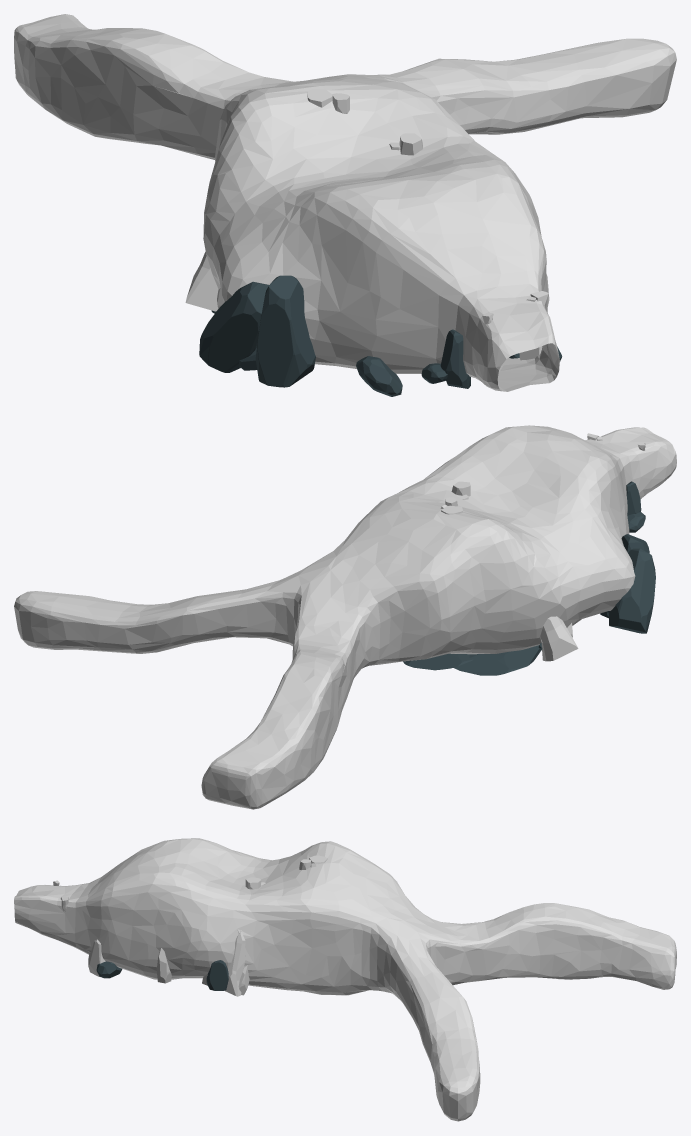
File: CaveTest1.fbx
3 views of the same model, one above another, from view 1: azimuth 30°, elevation 25°; view 2: azimuth 150°, elevation 25°; view 3: azimuth 270°, elevation 25° (orthographic). The views are drawn at different scales.
Parts seen in each view (by area): view 1: Cave, Stone1.001, Stone1.002, Stone4, Stone1, SpikeStone3.001; view 2: Cave, Stone1.002, Stone2.001, SpikeStone3.001, Stone2.002; view 3: Cave, SpikeStone3, Stone1.004.
Boxes of the visible parts, <box> form: Cave: <box>14,14,676,391</box>; Stone1.001: <box>255,275,315,387</box>; Stone1.002: <box>199,281,268,372</box>; Stone4: <box>356,356,402,396</box>; Stone1: <box>440,329,470,388</box>; SpikeStone3.001: <box>185,252,218,311</box>; Cave: <box>14,425,676,809</box>; Stone1.002: <box>608,548,655,633</box>; Stone2.001: <box>453,645,541,675</box>; SpikeStone3.001: <box>540,616,578,661</box>; Stone2.002: <box>403,653,473,670</box>; Cave: <box>14,838,676,1121</box>; SpikeStone3: <box>224,930,245,996</box>; Stone1.004: <box>206,960,228,990</box>.
Size of the model in its own units: 4566 by 1378 by 6436.
